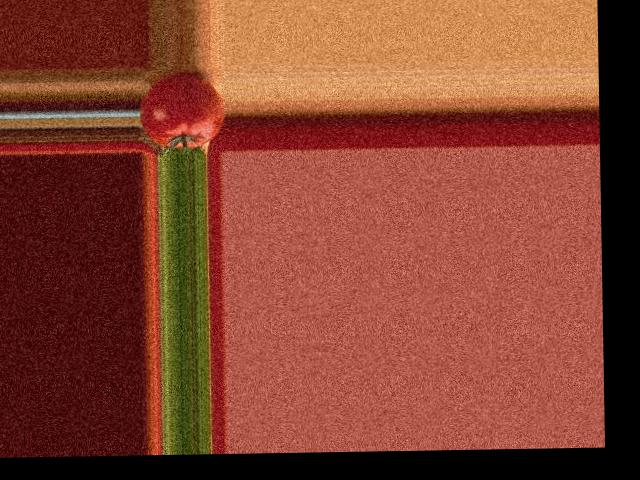tomato: (140, 74, 225, 148)
